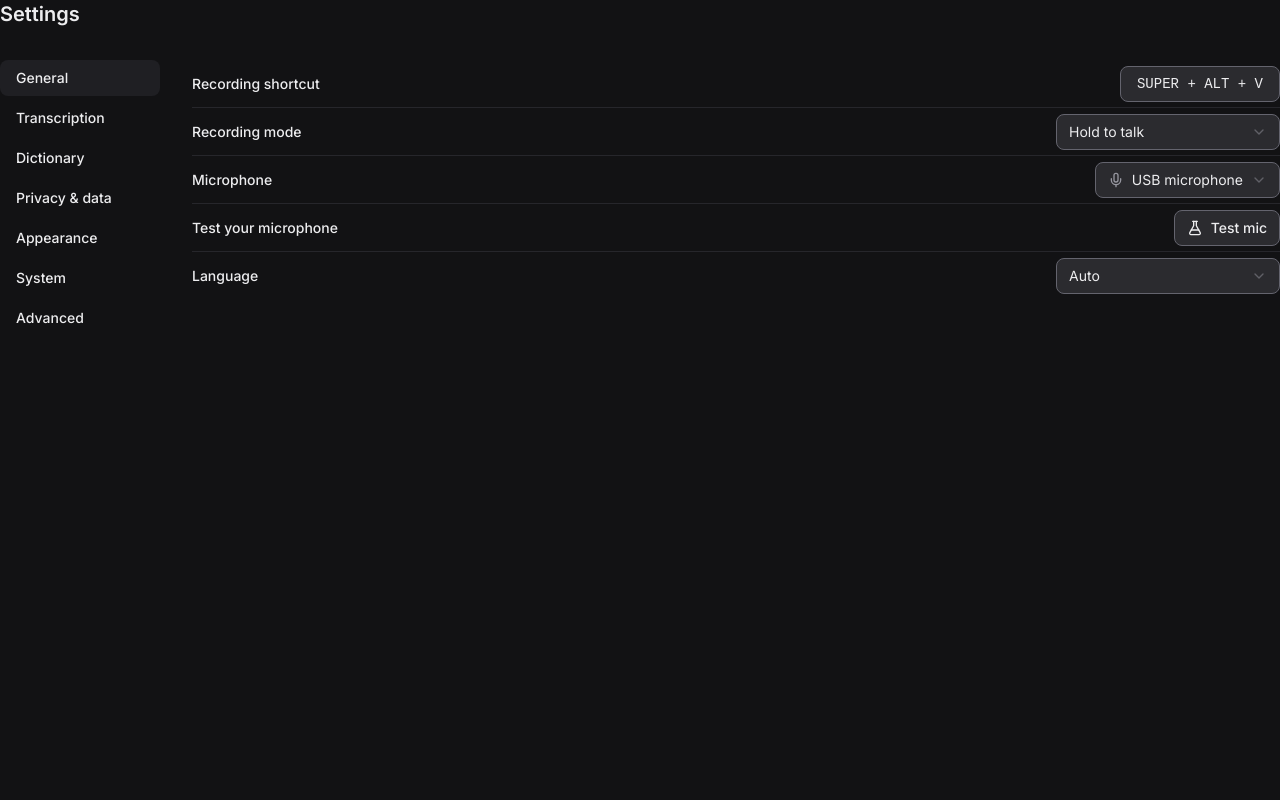
Scenario: saves the selected microphone before starting the test
What coordinates should you click on to do the following:
click the button "Test mic"
I would click on:
 (1227, 228)
Its box is [1174,210,1279,246].
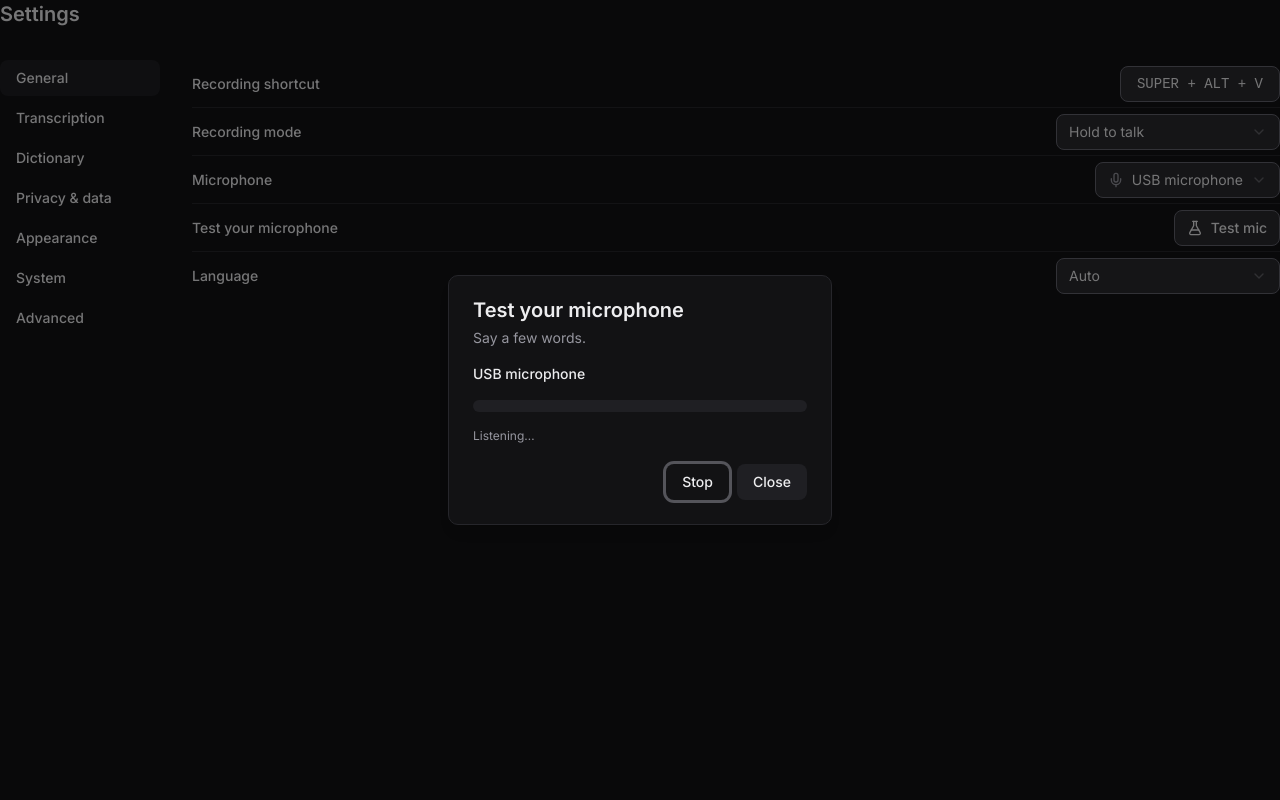
Expected: the dialog "Test your microphone" is shown, [448,275,832,525]
